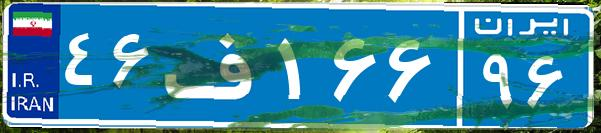1: (273, 28, 330, 110)
4: (57, 26, 110, 107)
6: (385, 28, 445, 110), (330, 28, 385, 110), (110, 28, 158, 105), (525, 38, 570, 115)
9: (475, 38, 525, 113)
ف: (158, 15, 273, 115)
